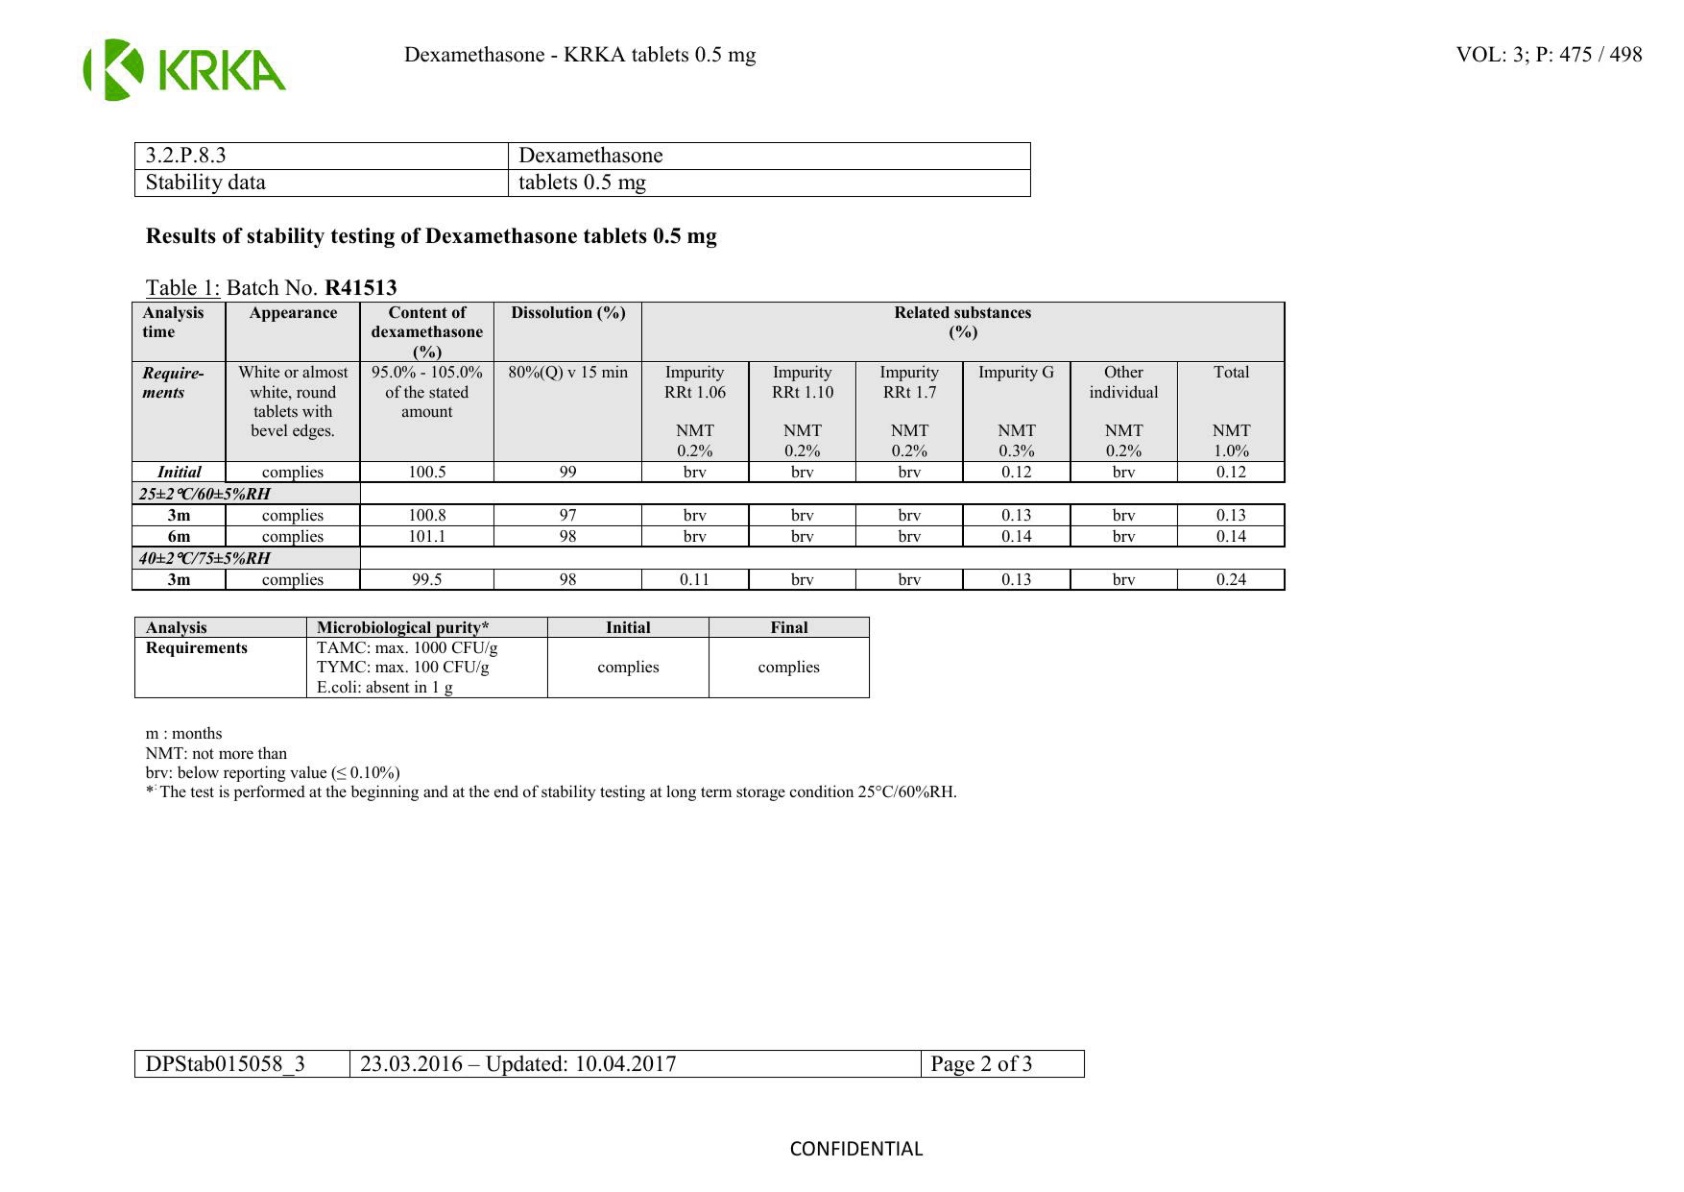full_lined: (133, 617, 870, 699), (132, 141, 1032, 197), (134, 1049, 1086, 1078)
merged_cells: (130, 301, 1286, 592)
